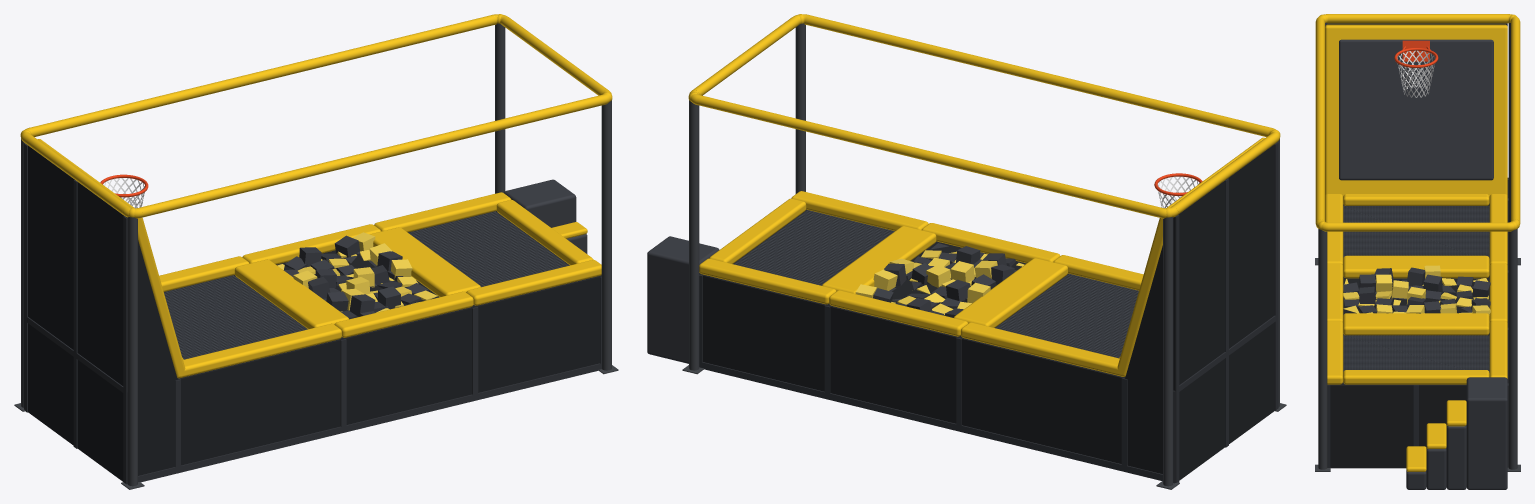
The model's file is trampolim-enterrada-espuma.glb.
3 renders of one model, left to right at view 1: azimuth 30°, elevation 25°; view 2: azimuth 150°, elevation 25°; view 3: azimuth 270°, elevation 25°, orthographic. The views are drawn at different scales.
Visible parts, largest first — view 1: caixote, estofados-amarelos, quadro-amarelo, camas, frisos-do-caixote, colunas, cubos-de-espuma, estofado-cinza; view 2: caixote, estofados-amarelos, camas, quadro-amarelo, frisos-do-caixote, colunas, cubos-de-espuma, estofado-cinza; view 3: estofado-cinza, estofados-amarelos, camas, caixote, quadro-amarelo, cubos-de-espuma, colunas, frisos-do-caixote, rede, aro.
Part boxes in pixels (box(x1,y1,x2,y2)): caixote: box(25, 143, 601, 481); estofados-amarelos: box(38, 139, 601, 378); quadro-amarelo: box(20, 14, 612, 218); camas: box(164, 211, 568, 359); frisos-do-caixote: box(24, 143, 601, 484); colunas: box(14, 23, 618, 489); cubos-de-espuma: box(277, 232, 437, 318); estofado-cinza: box(504, 179, 587, 253); caixote: box(699, 142, 1277, 480); estofados-amarelos: box(699, 137, 1264, 376); camas: box(733, 210, 1138, 358); quadro-amarelo: box(688, 14, 1280, 218); frisos-do-caixote: box(699, 142, 1278, 483); colunas: box(682, 23, 1286, 489); cubos-de-espuma: box(855, 243, 1024, 317); estofado-cinza: box(647, 236, 719, 363); estofado-cinza: box(1339, 39, 1507, 489); estofados-amarelos: box(1325, 24, 1507, 471); camas: box(1343, 206, 1489, 372); caixote: box(1327, 23, 1507, 468); quadro-amarelo: box(1315, 14, 1520, 231); cubos-de-espuma: box(1343, 265, 1490, 315); colunas: box(1315, 22, 1520, 471); frisos-do-caixote: box(1327, 177, 1508, 467); rede: box(1397, 50, 1435, 97); aro: box(1394, 40, 1438, 67).
Size of the model in its own units: 6.01 by 2.98 by 2.25.
Materials: 10 (2 with a texture image).
